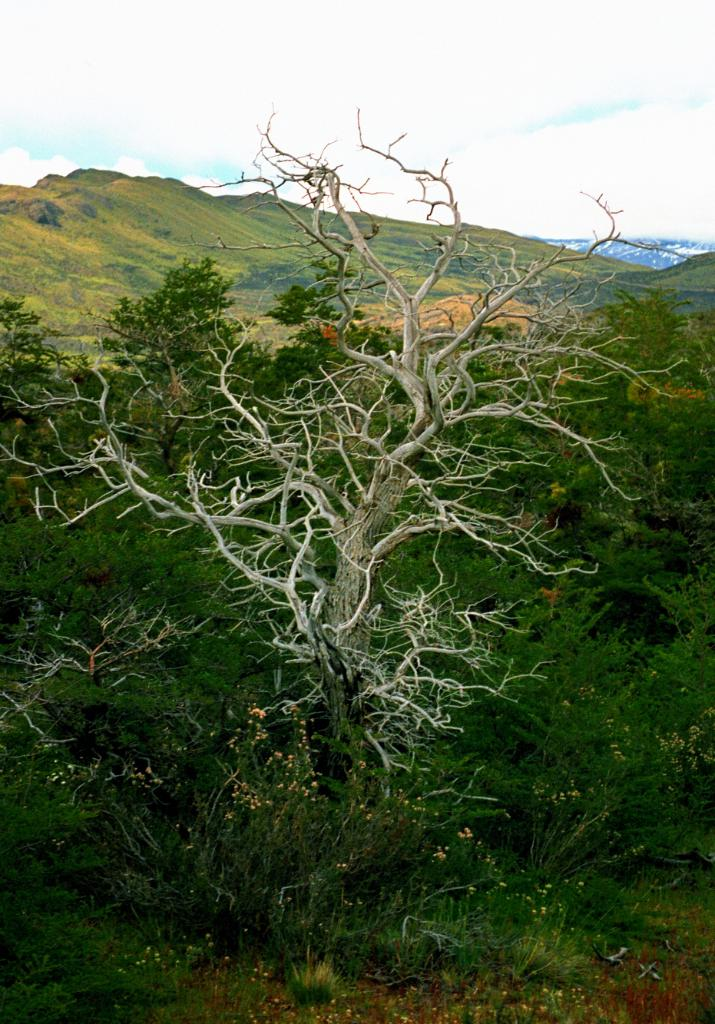Tree: (0, 112, 702, 794)
